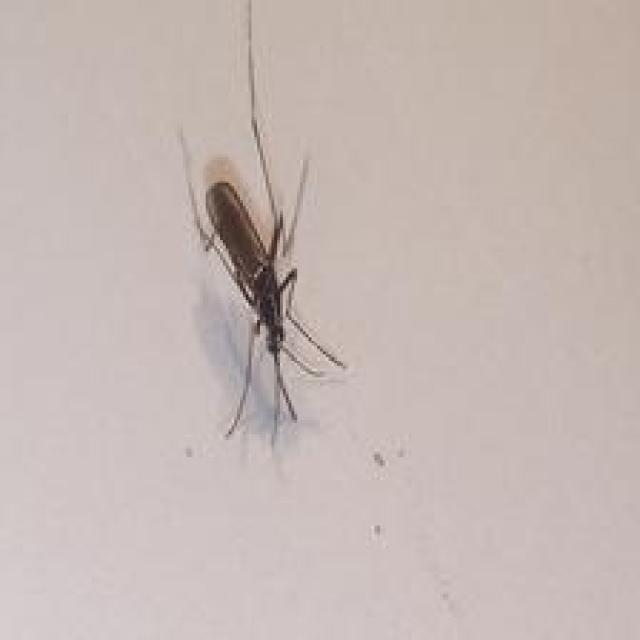Aedes albopictus: (174, 0, 349, 446)
